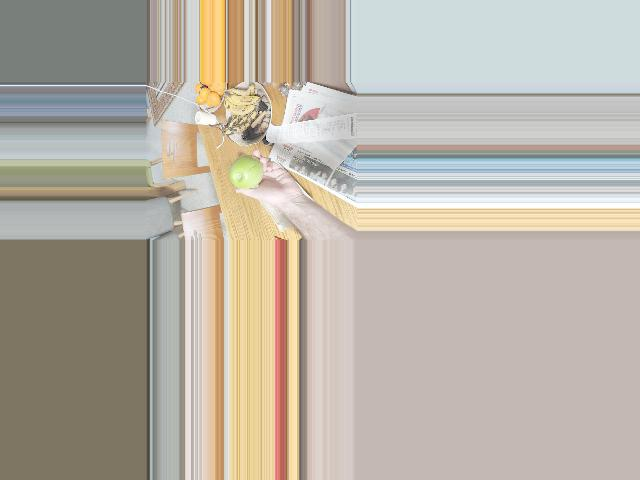apple: (226, 154, 262, 190)
